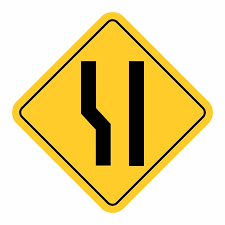narrow-road: (44, 48, 181, 179)
